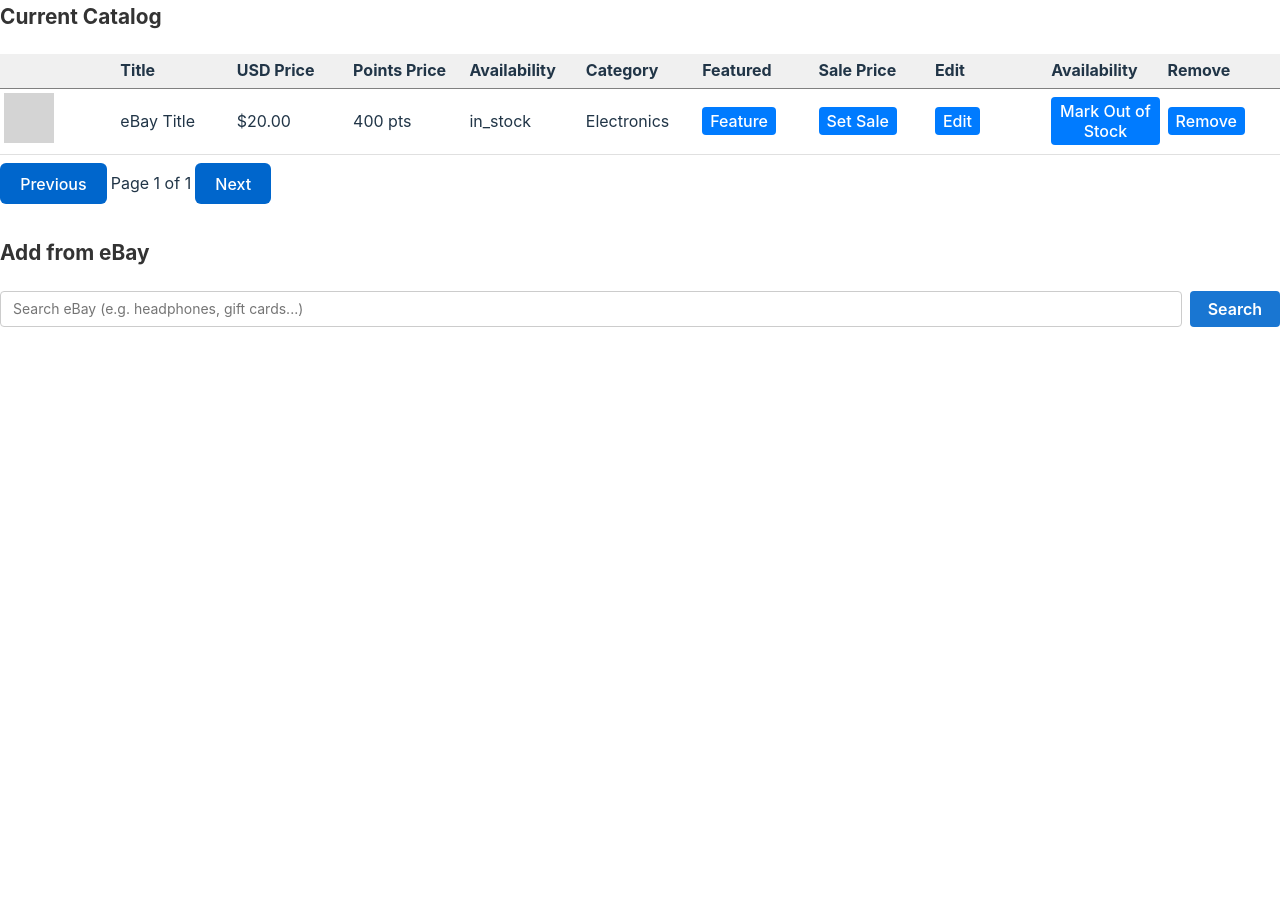
it: OrganizationCatalogTab — Edit Item Modal › pre-fills estimated_delivery_days input with existing value
Click the button "Edit": (957, 122) [935,108,980,136]
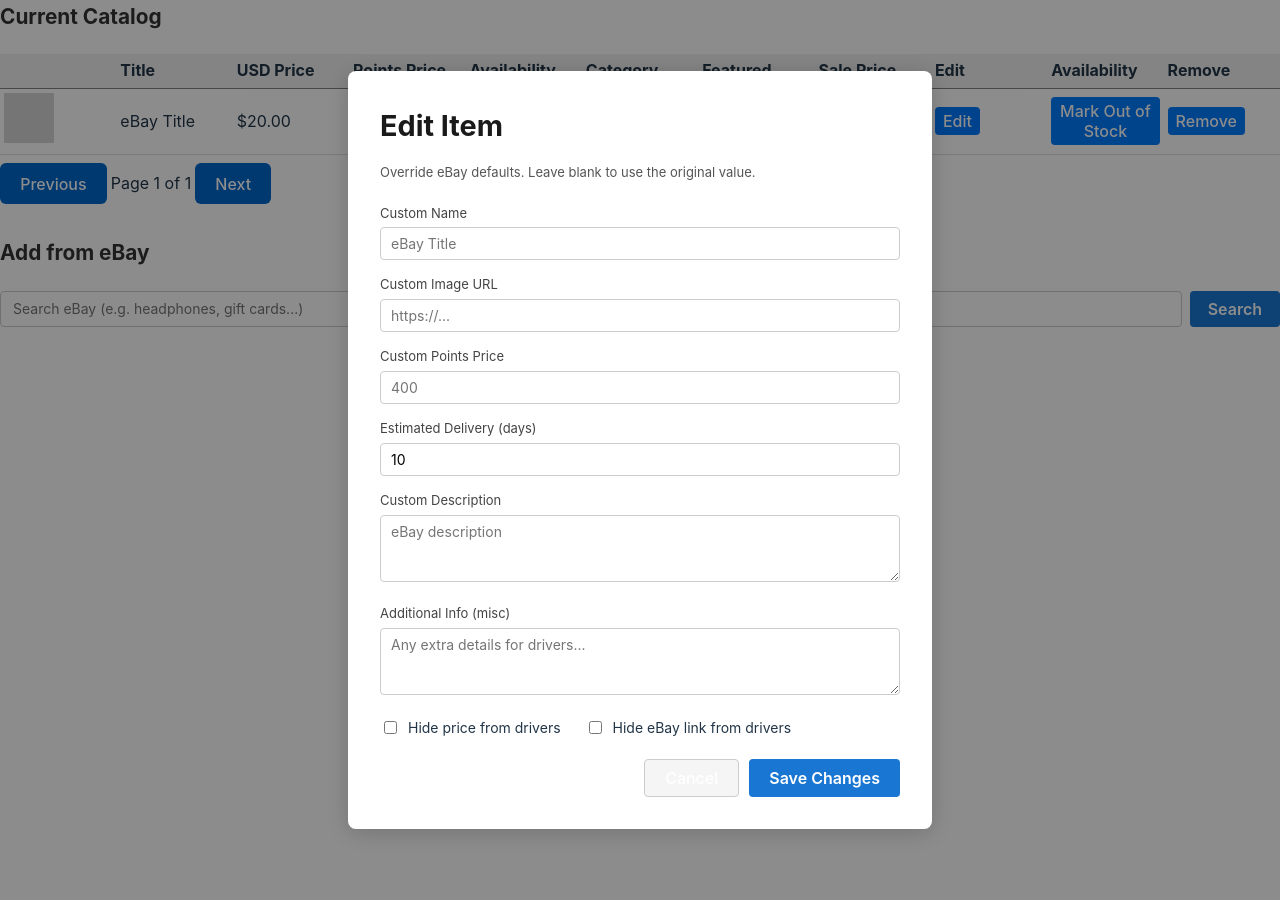
Expected: the number field with placeholder "e.g. 7" holds "10", [380,443,900,476]
